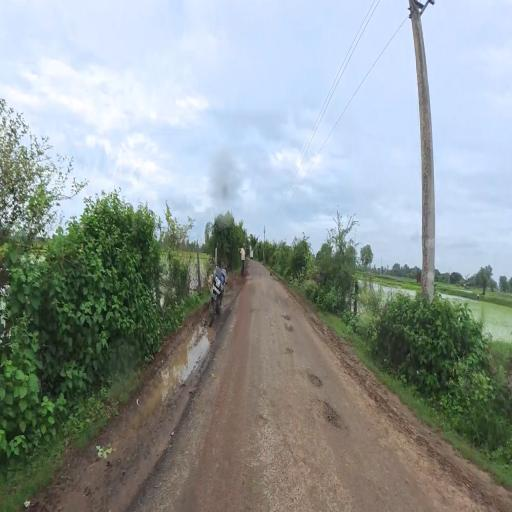ravelling: (271, 286, 354, 501)
